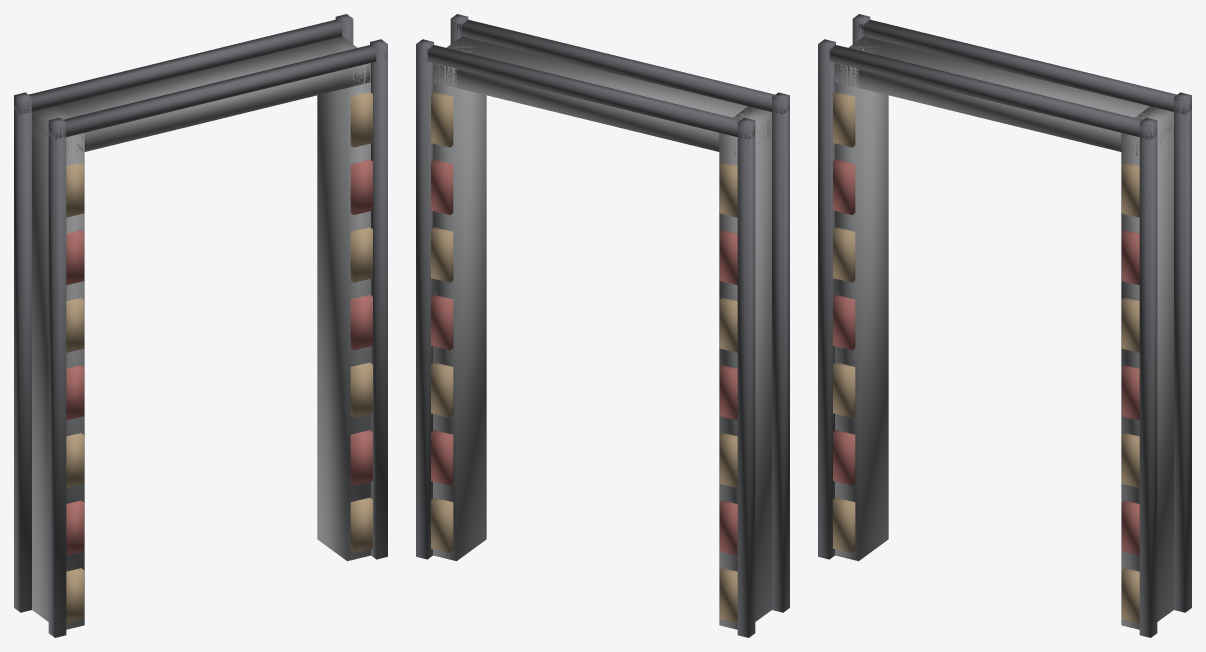
Rendered from doorway_brick_return_w122_h210_d24.glb.
The picture shows the model from 3 angles, left to right: view 1: azimuth 30°, elevation 25°; view 2: azimuth 150°, elevation 25°; view 3: azimuth 330°, elevation 25°; orthographic projection.
Parts seen in each view (by area): view 1: world; view 2: world; view 3: world.
Boxes of the visible parts, x1=… form: world: x1=14, y1=14, x2=387, y2=637; world: x1=416, y1=14, x2=789, y2=637; world: x1=818, y1=14, x2=1191, y2=637.
Size of the model in its own units: 1.55 by 2.28 by 0.3296.
